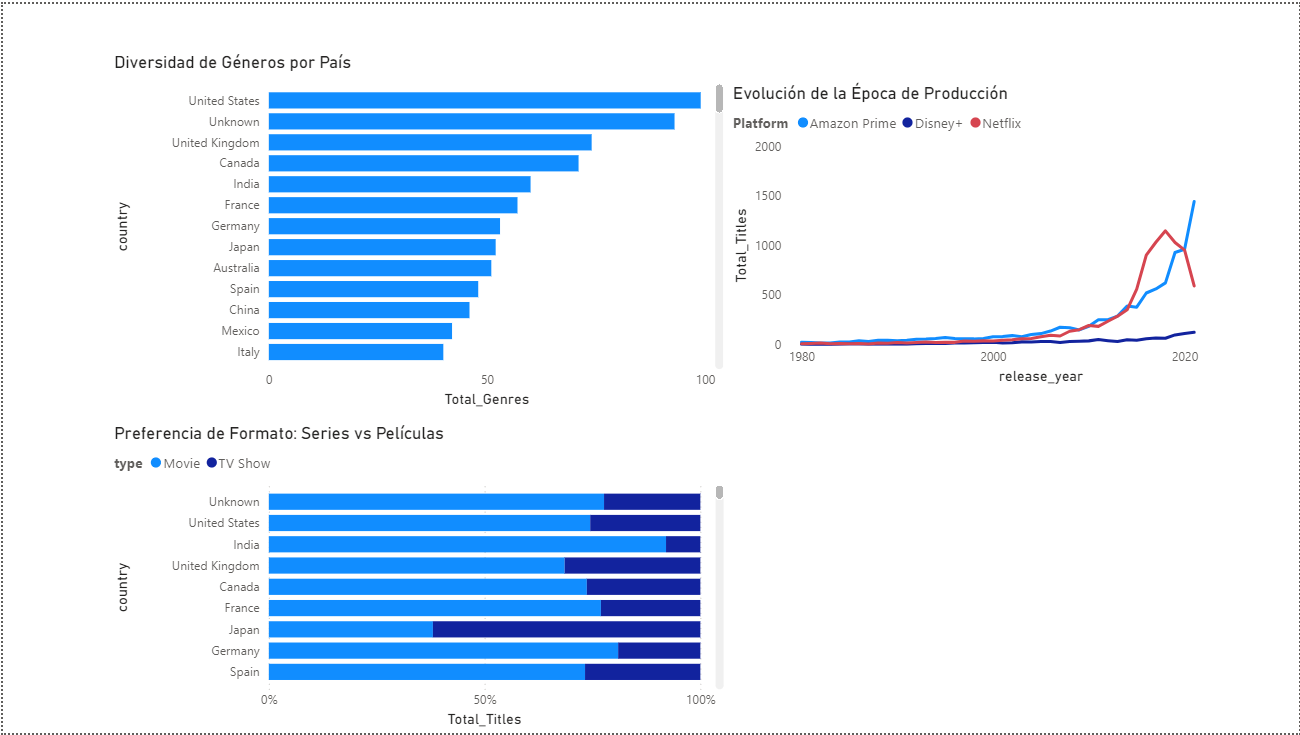

The dashboard page shown, as its layout file describes it:
{"tool":"powerbi","page":{"name":"Página 1","canvas":[1280,720],"ordinal":0},"visuals":[{"type":"clusteredBarChart","title":"Diversidad de Géneros por País","fields":{"Category":["Dim_Country.country"],"Y":["Measure.Total_Genres"]},"box":[105,46.7,611.7,356.7],"z":0},{"type":"lineChart","title":"Evolución de la Época de Producción","fields":{"Category":["Dim_Year.release_year"],"Y":["Measure.Total_Titles"],"Series":["Dim_Platform.Platform"]},"box":[716.2,77.5,563.8,302.5],"z":1000},{"type":"hundredPercentStackedBarChart","title":"Preferencia de Formato: Series vs Películas","fields":{"Y":["Measure.Total_Titles"],"Category":["Dim_Country.country"],"Series":["Fact_Content.type"]},"box":[105,414,612,306],"z":2000}]}

Visuals, with their boxes in screenshot pixels (x1, y1, x2, y2), scaled from the page's 1280x720 canvas onto the 1300x735 screenshot:
"Diversidad de Géneros por País" clusteredBarChart: detection(107, 48, 728, 412)
"Evolución de la Época de Producción" lineChart: detection(727, 79, 1299, 388)
"Preferencia de Formato: Series vs Películas" hundredPercentStackedBarChart: detection(107, 423, 728, 734)
